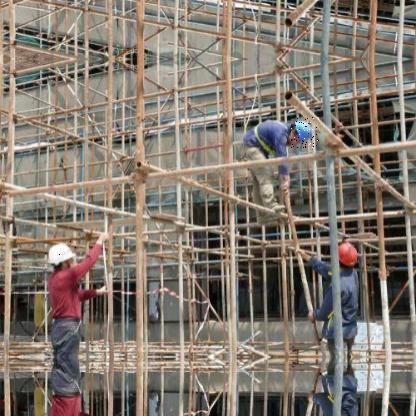safetyhelmet: (42, 240, 78, 268), (291, 118, 320, 150), (335, 238, 360, 272)
